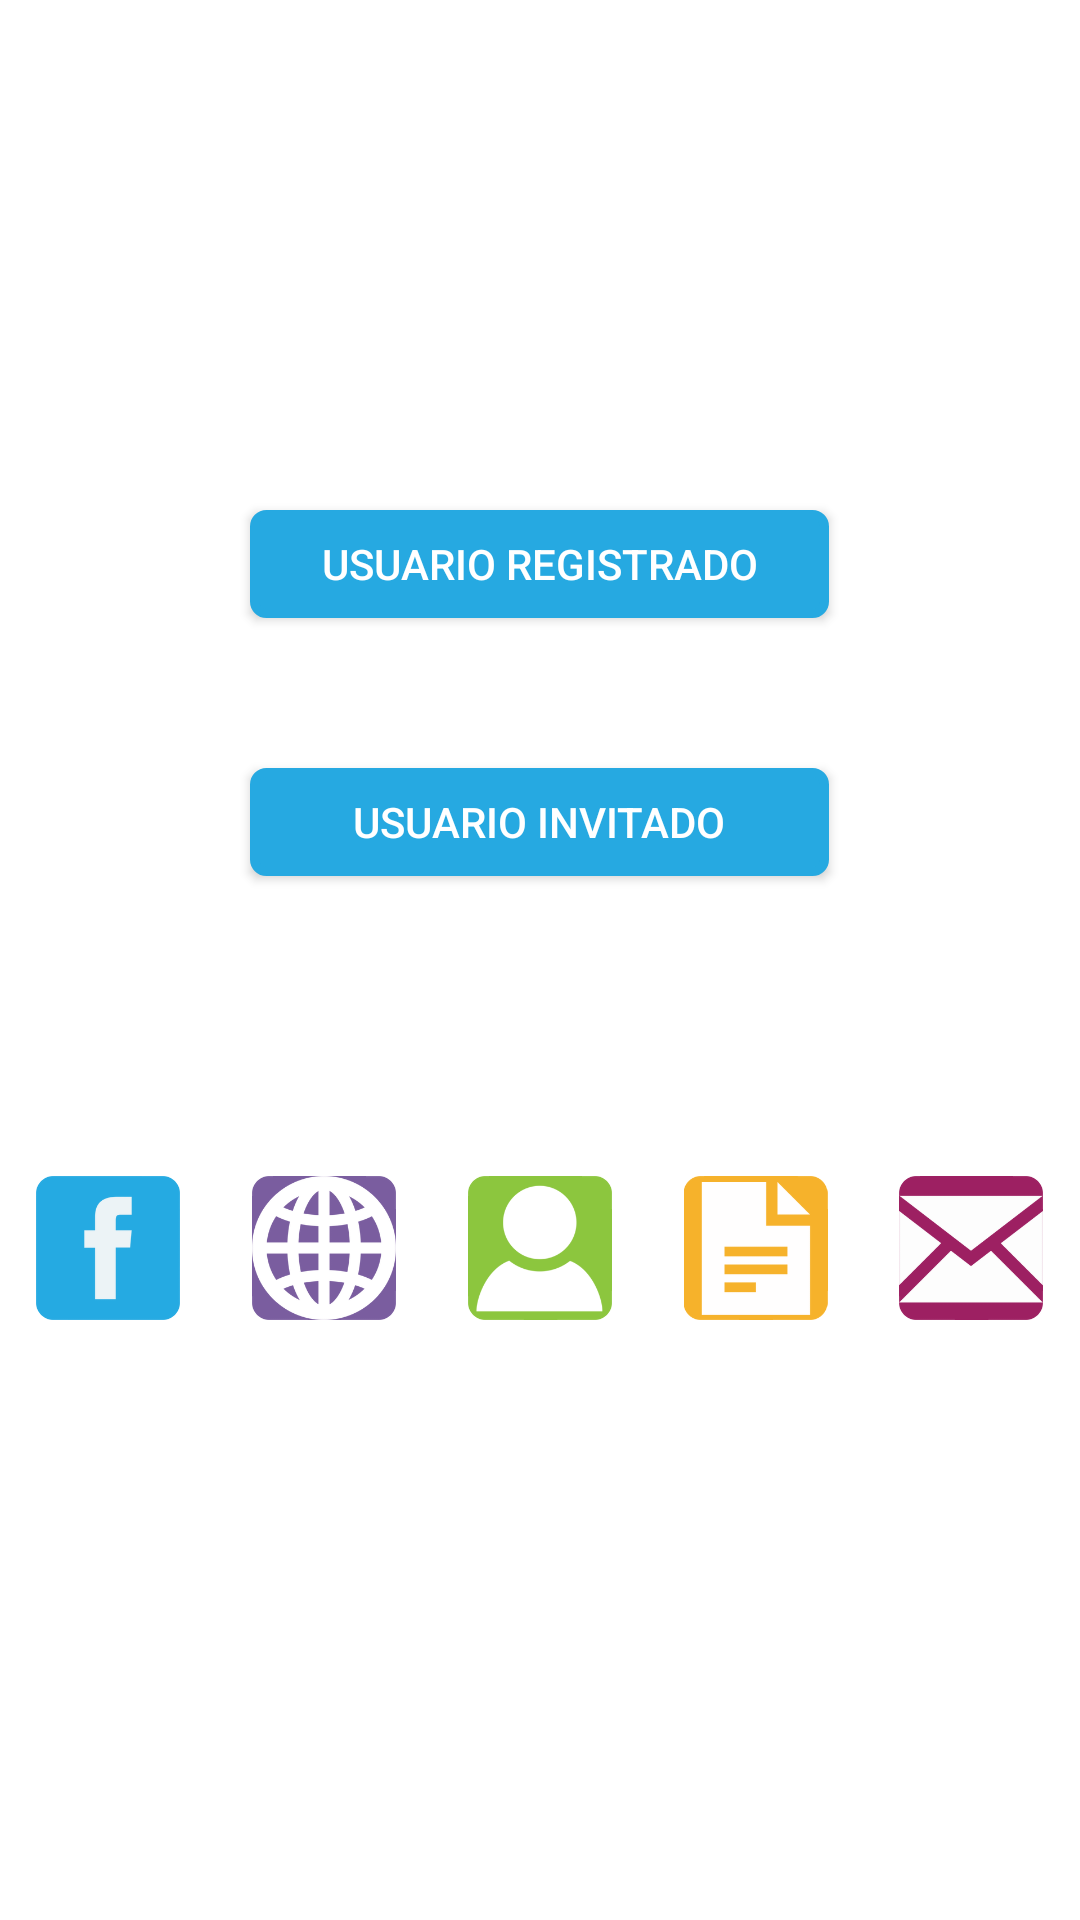

Where icons sit on this 1080px×1920px app screen, as detection(x1, y1, x2, y2):
about: detection(468, 1176, 612, 1320)
mail: detection(899, 1176, 1043, 1320)
world: detection(252, 1176, 396, 1320)
